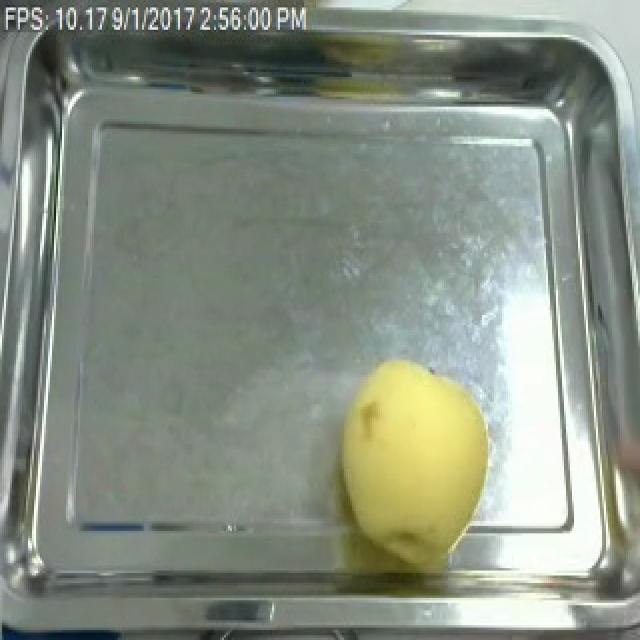Fruit: (330, 350, 502, 566)
